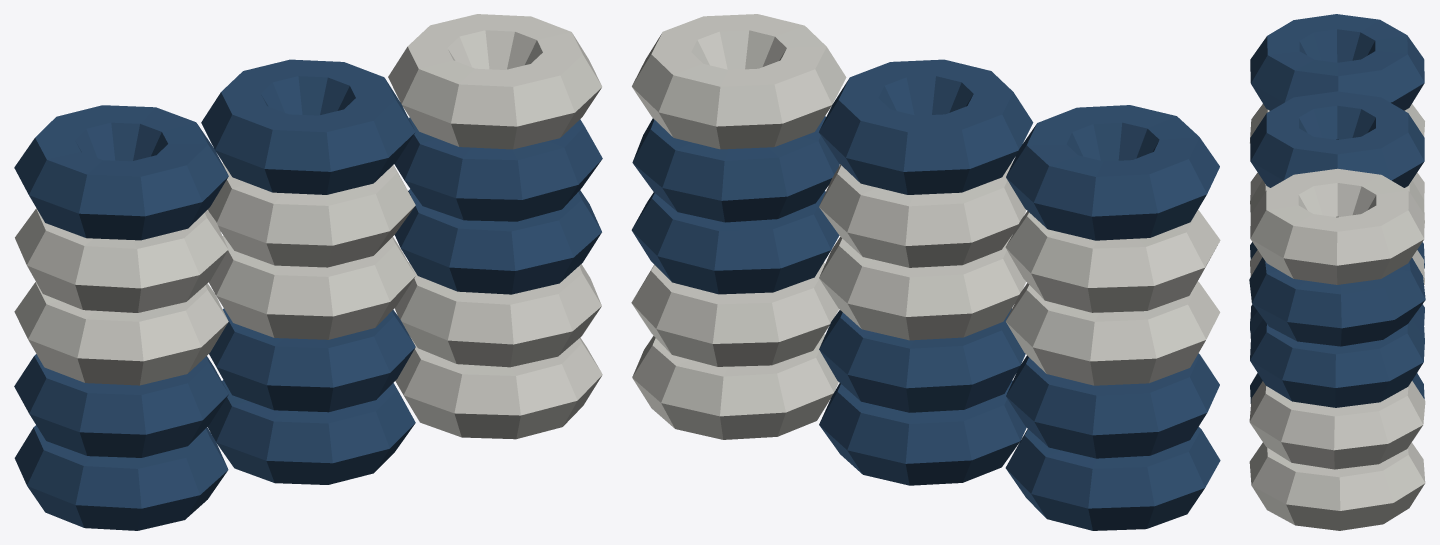
The model's file is barrier_tire_navy_white_01.glb.
3 renders of one model, left to right at view 1: azimuth 30°, elevation 25°; view 2: azimuth 150°, elevation 25°; view 3: azimuth 270°, elevation 25°, orthographic. The views are drawn at different scales.
Parts seen in each view (by area): view 1: barrier_tire_navy_white_01; view 2: barrier_tire_navy_white_01; view 3: barrier_tire_navy_white_01.
Boxes of the visible parts, x1,y1,x2,y2 form: barrier_tire_navy_white_01: (14,14,602,530); barrier_tire_navy_white_01: (631,14,1220,530); barrier_tire_navy_white_01: (1249,14,1425,530).
Size of the model in its own units: 1.86 by 1.12 by 0.5977.
